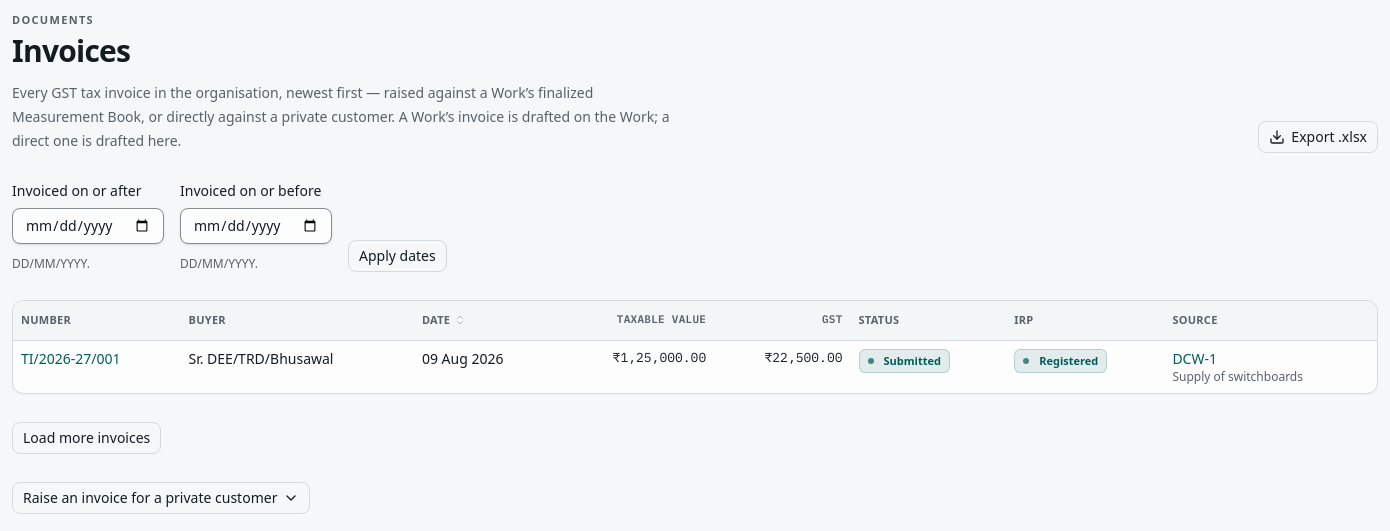
Test case: the tax-invoice register › asks for a page, and pages on with the cursor the server returned
The width and height of the screenshot is (1390, 531).
Expected: the link "TI/2026-27/001" is shown, [21,349,120,368]
Click the button "Load more invoices": x=87, y=438 [12,422,161,454]
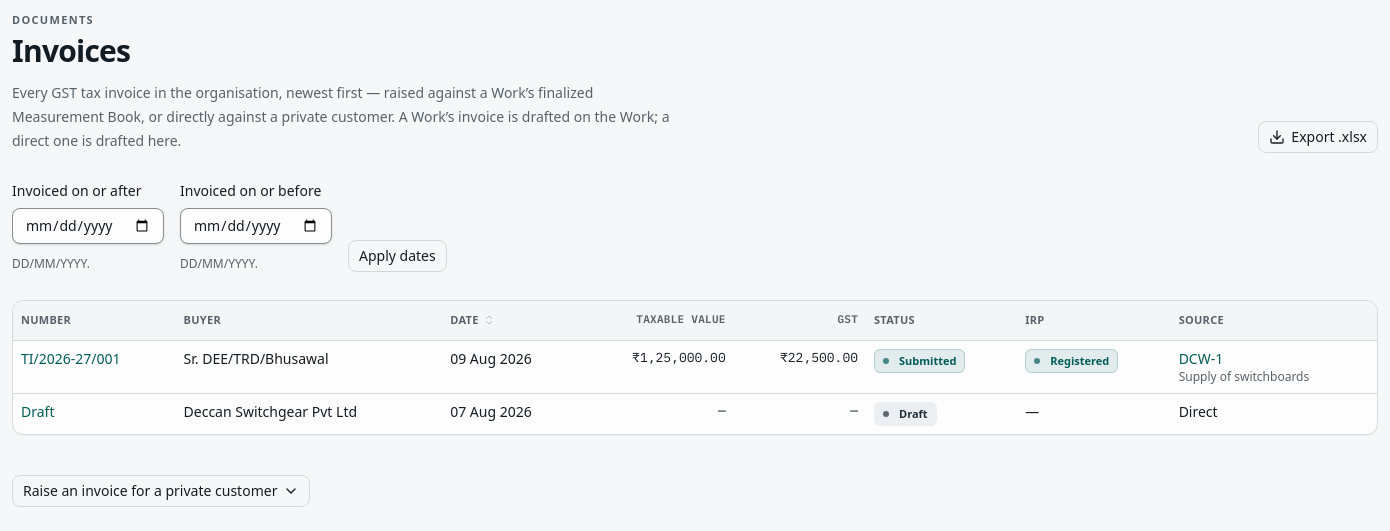
Expected: the link "TI/2026-27/001" is shown, [21,349,120,368]
Now the link "Draft" is shown, box [21,402,54,421]
Now the button "Load more invoices" is gone
